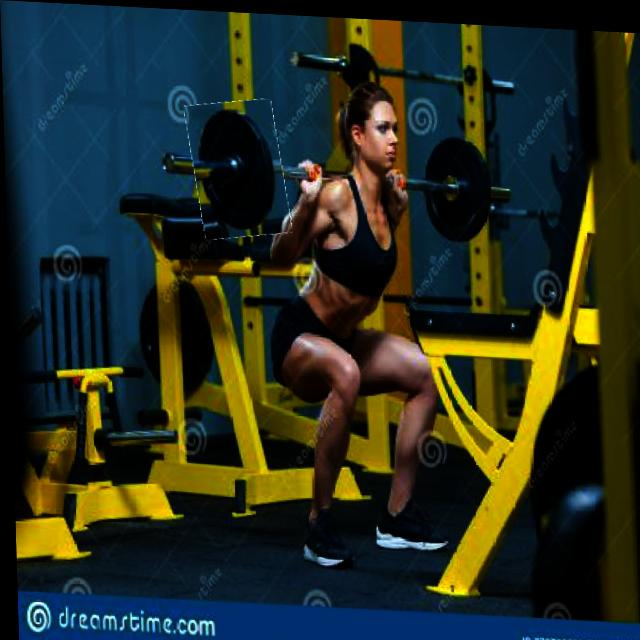barbell: (189, 97, 288, 239)
